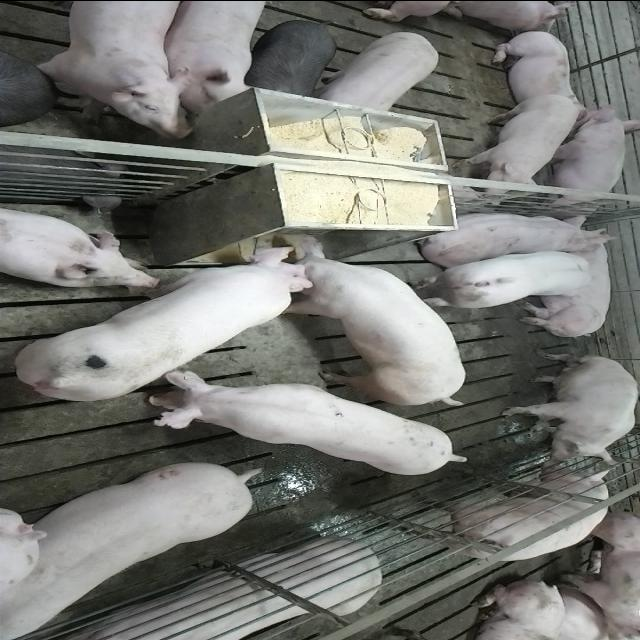Feeding: (12, 245, 318, 409), (264, 225, 470, 399)
Lateral_lying: (520, 225, 624, 337)
Sitting: (498, 353, 638, 464)
Standing: (7, 458, 264, 634), (147, 368, 476, 472), (28, 2, 190, 138), (402, 459, 612, 558), (451, 94, 579, 192), (159, 3, 269, 111), (407, 249, 590, 311), (312, 30, 438, 114), (238, 19, 336, 98), (2, 40, 60, 124)
Sternal_lying: (46, 540, 378, 640), (0, 204, 157, 288), (486, 26, 590, 124)
